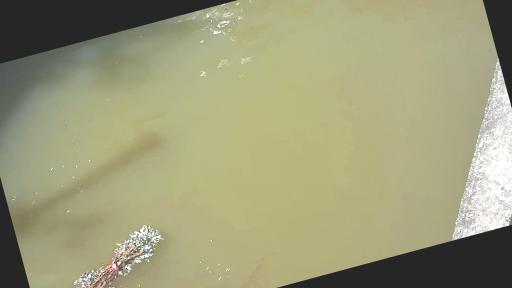twig: (23, 220, 176, 288)
